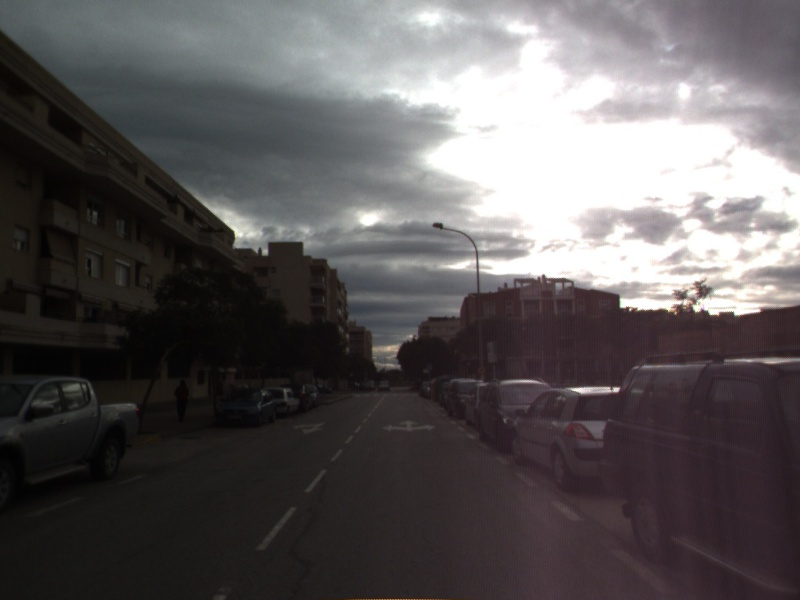STRAIGHT_LEFT_RIGHT: (380, 417, 437, 434)
